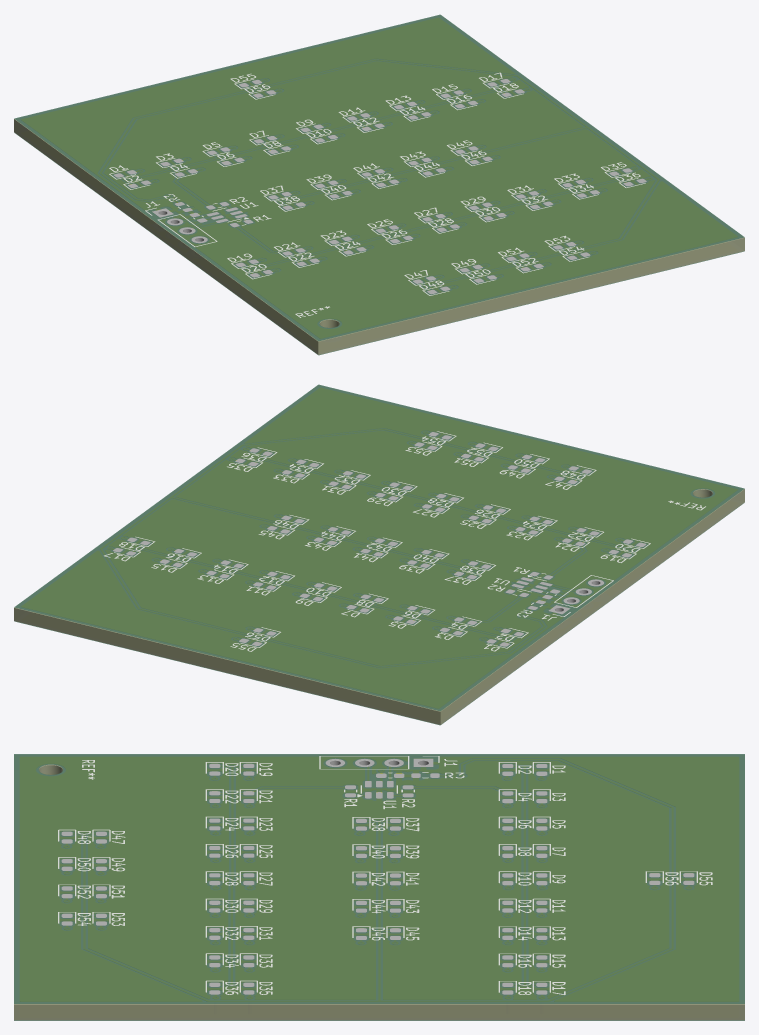
File: iflfu-sao.glb
3 views of the same model, one above another, from view 1: azimuth 30°, elevation 25°; view 2: azimuth 150°, elevation 25°; view 3: azimuth 270°, elevation 25° (orthographic). The views are drawn at different scales.
Parts seen in each view (by area): view 1: =>[0:1:1:7], =>[0:1:1:2], =>[0:1:1:9], =>[0:1:1:5]; view 2: =>[0:1:1:7], =>[0:1:1:2], =>[0:1:1:9], =>[0:1:1:5]; view 3: =>[0:1:1:7], =>[0:1:1:2], =>[0:1:1:9], =>[0:1:1:5].
Boxes of the visible parts, x1=… form: =>[0:1:1:7]: x1=14, y1=14, x2=744, y2=355; =>[0:1:1:2]: x1=22, y1=18, x2=737, y2=338; =>[0:1:1:9]: x1=14, y1=15, x2=744, y2=354; =>[0:1:1:5]: x1=109, y1=72, x2=645, y2=317; =>[0:1:1:7]: x1=14, y1=384, x2=744, y2=725; =>[0:1:1:2]: x1=21, y1=388, x2=736, y2=708; =>[0:1:1:9]: x1=14, y1=385, x2=744, y2=724; =>[0:1:1:5]: x1=104, y1=431, x2=705, y2=651; =>[0:1:1:7]: x1=14, y1=754, x2=744, y2=1020; =>[0:1:1:2]: x1=20, y1=757, x2=738, y2=1001; =>[0:1:1:9]: x1=14, y1=755, x2=744, y2=1020; =>[0:1:1:5]: x1=58, y1=756, x2=712, y2=994.
Bounding box in the file's own units: 0.0512 × 0.00166 × 0.0633.
Materials: 4 (4 with a texture image).
